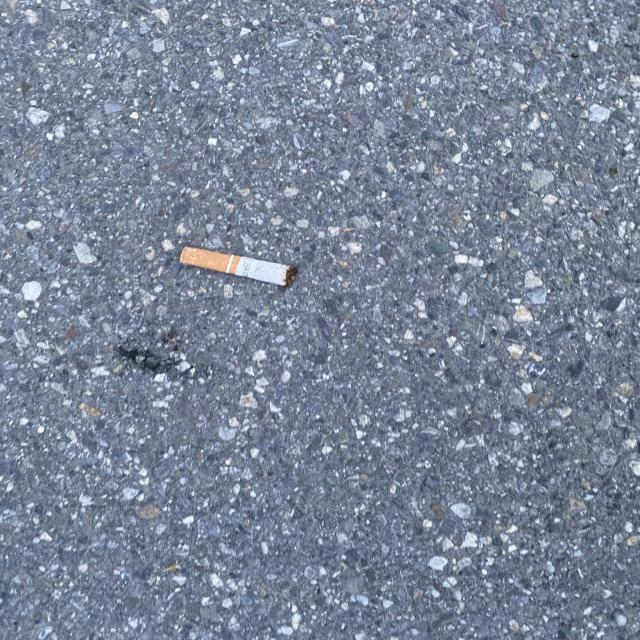other waste: (179, 245, 299, 288)
